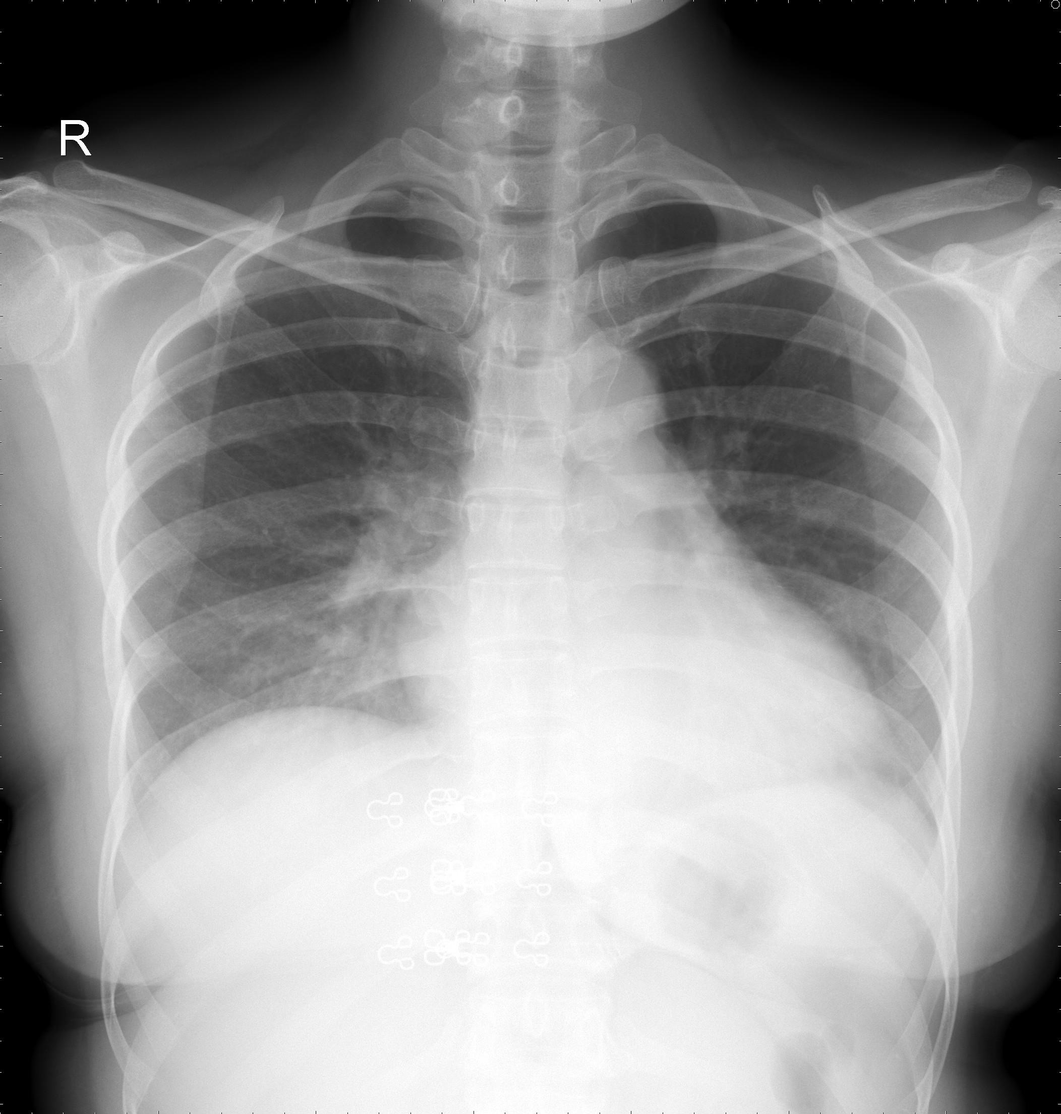Aortic enlargement: (536, 347, 666, 442)
Cardiomegaly: (394, 605, 903, 803)
